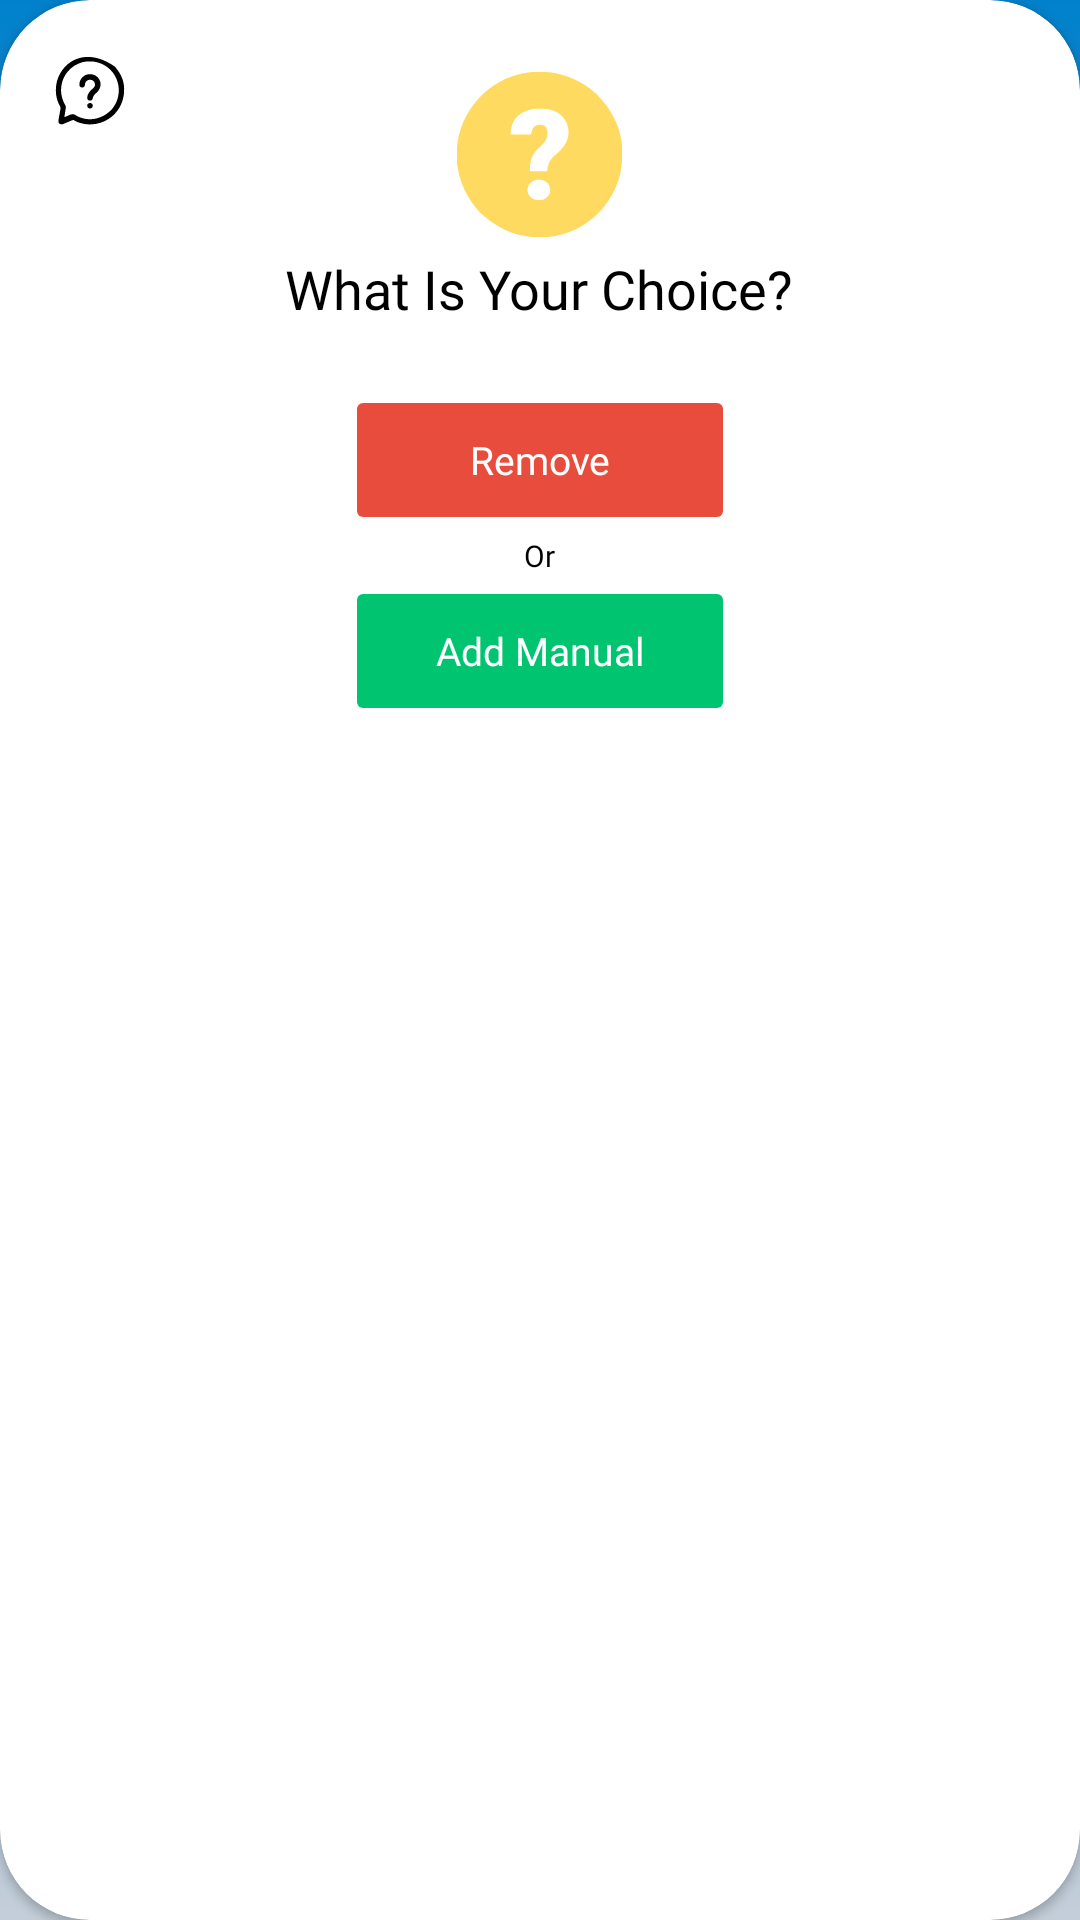

Where to tap for icons on this 1080px x 1920px app screen, as [x,y]:
faq: [90,91]
question alert: [539,154]
